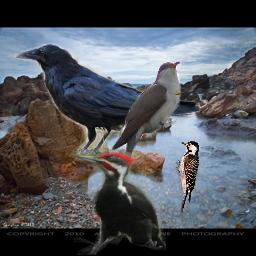Crow: (14, 43, 203, 162)
Cuckoo: (111, 61, 181, 196)
Woodpecker: (74, 145, 166, 255), (176, 139, 200, 214)
